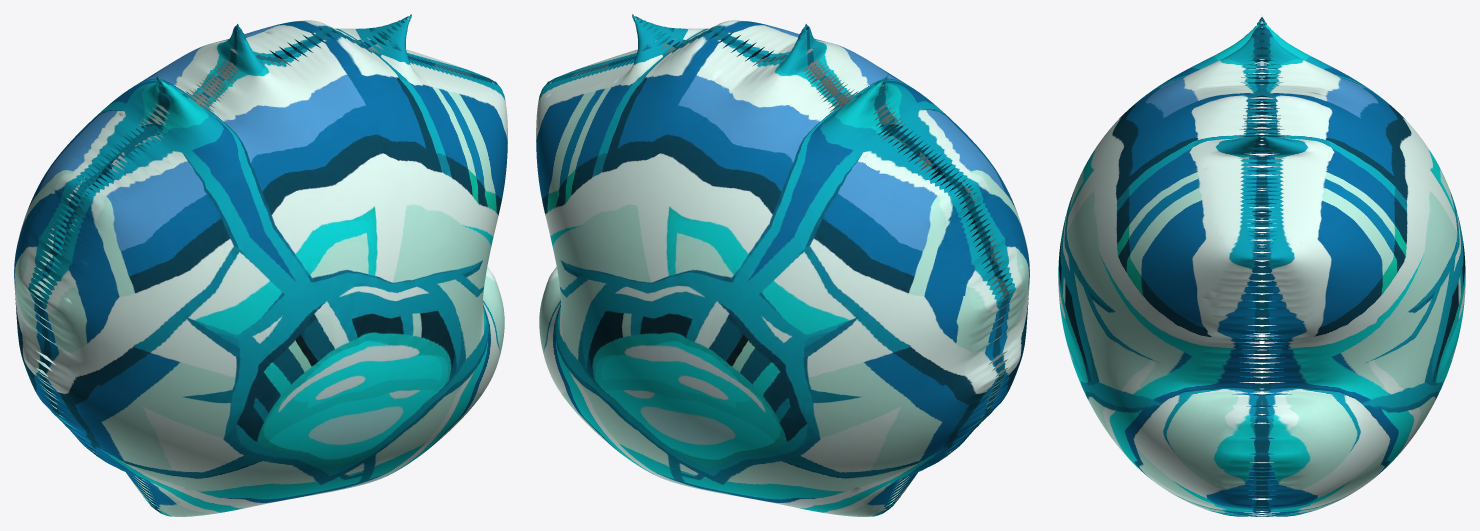
The model's file is ice_machine.glb.
3 views of the same model, side by side, from view 1: azimuth 30°, elevation 25°; view 2: azimuth 150°, elevation 25°; view 3: azimuth 270°, elevation 25° (orthographic). The views are drawn at different scales.
Parts seen in each view (by area): view 1: ice_machine; view 2: ice_machine; view 3: ice_machine.
Boxes of the visible parts, x1=… form: ice_machine: x1=14, y1=14, x2=507, y2=516; ice_machine: x1=536, y1=14, x2=1029, y2=516; ice_machine: x1=1058, y1=17, x2=1465, y2=516.
Bounding box in the file's own units: 0.9886 × 0.9622 × 0.7994.
Materials: 1 (1 with a texture image).
